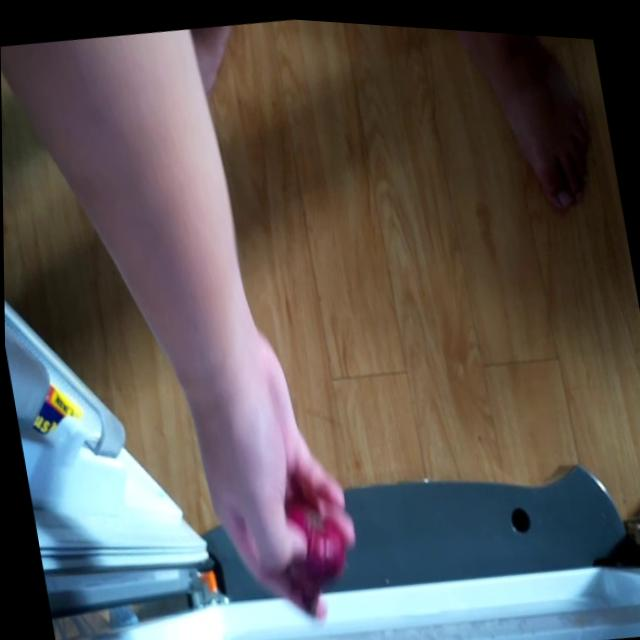onion: (267, 489, 351, 617)
